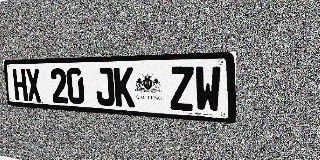0: (66, 68, 85, 104)
2: (50, 68, 68, 103)
H: (12, 69, 28, 101)
J: (95, 68, 115, 106)
K: (113, 67, 135, 108)
W: (195, 66, 221, 113)
X: (25, 69, 42, 102)
Z: (169, 66, 194, 111)
